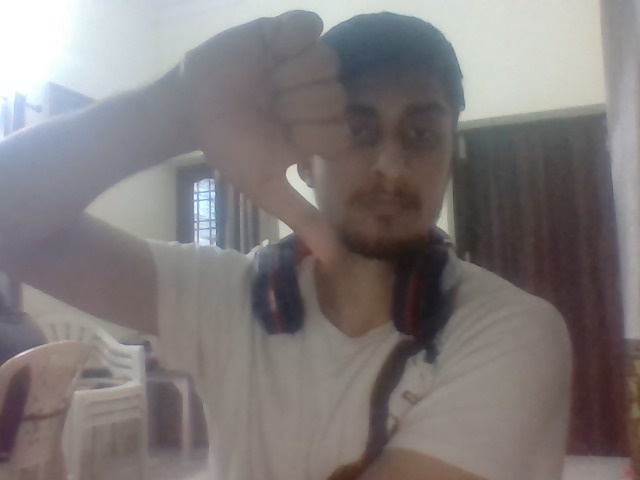ThumbsDown: (185, 10, 353, 264)
